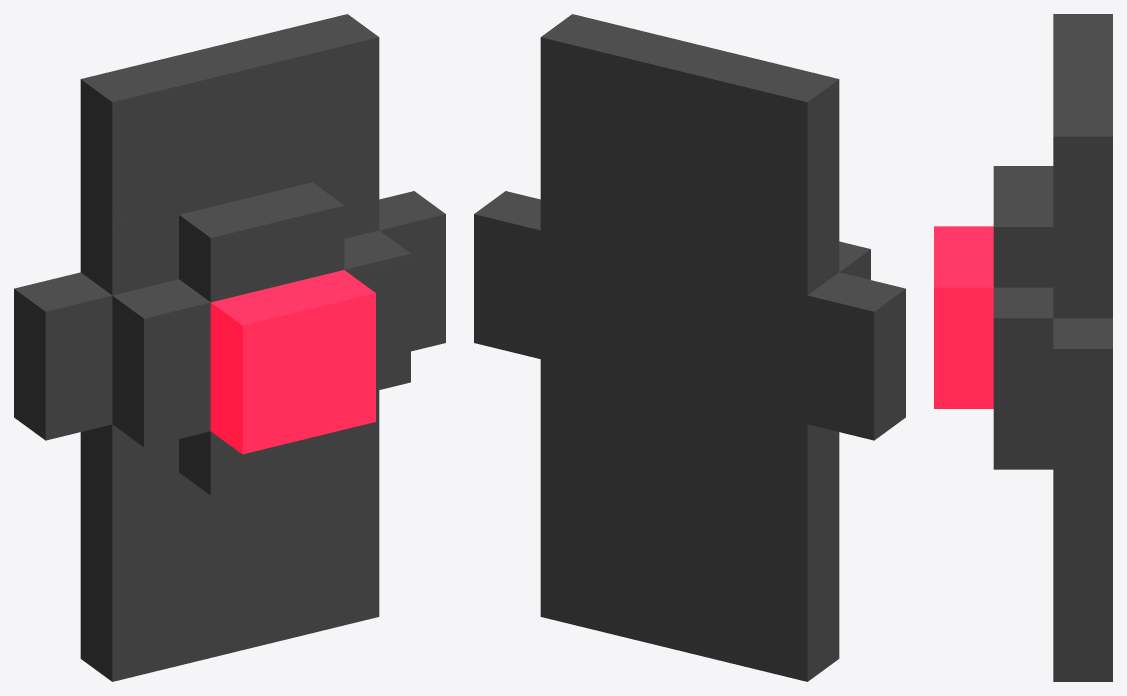
The model's file is cyborg_optics.glb.
3 views of the same model, side by side, from view 1: azimuth 30°, elevation 25°; view 2: azimuth 150°, elevation 25°; view 3: azimuth 270°, elevation 25° (orthographic). The views are drawn at different scales.
Parts seen in each view (by area): view 1: cyborg_eye.001; view 2: cyborg_eye.001; view 3: cyborg_eye.001.
Boxes of the visible parts, x1,y1,x2,y2 form: cyborg_eye.001: [14, 14, 445, 681]; cyborg_eye.001: [474, 14, 905, 681]; cyborg_eye.001: [934, 14, 1112, 681].
Size of the model in its own units: 0.7294 by 1.01 by 0.3.
